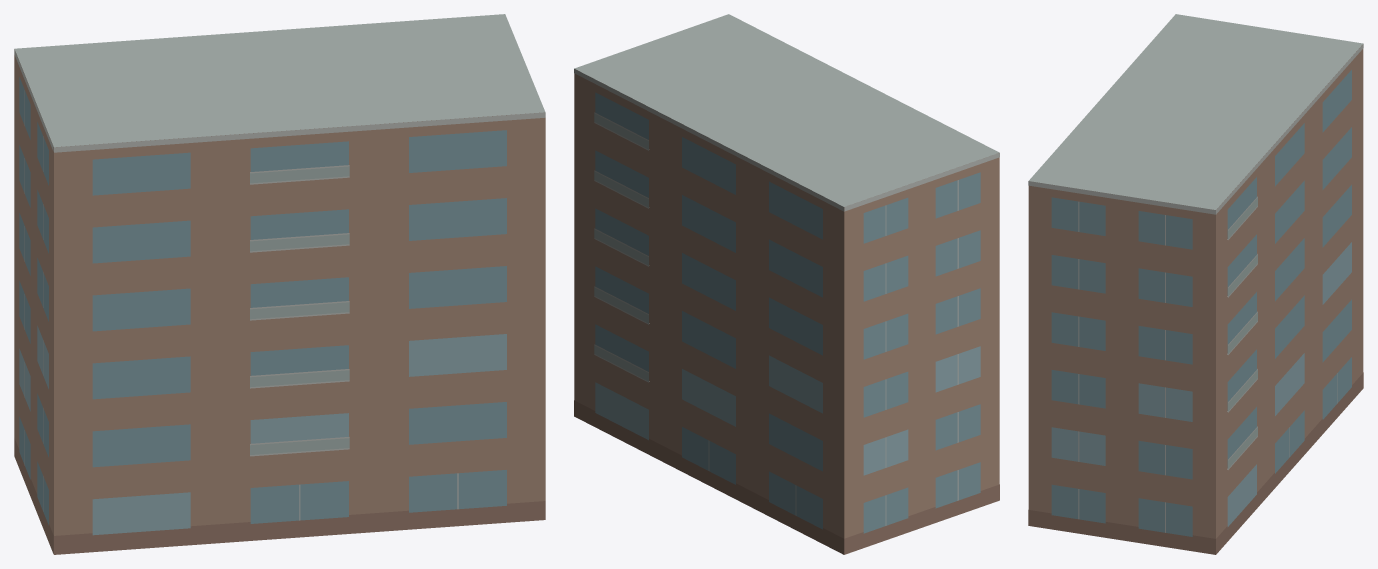
File: survey-upis-32943267.glb
3 views of the same model, side by side, from view 1: azimuth 30°, elevation 25°; view 2: azimuth 150°, elevation 25°; view 3: azimuth 270°, elevation 25° (orthographic). The views are drawn at different scales.
Parts seen in each view (by area): view 1: survey-upis-32943267.tmp; view 2: survey-upis-32943267.tmp; view 3: survey-upis-32943267.tmp.
Boxes of the visible parts, left/top/right/bottom form: survey-upis-32943267.tmp: left=14, top=14, right=545, bottom=554; survey-upis-32943267.tmp: left=574, top=14, right=999, bottom=554; survey-upis-32943267.tmp: left=1028, top=14, right=1363, bottom=554.
Bounding box in the file's own units: 22.33 × 18.3 × 16.12.
